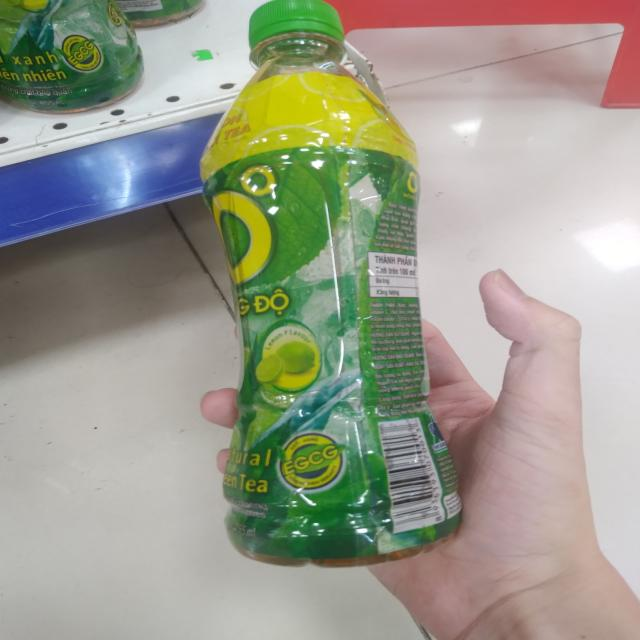tra xanh khong do: (184, 0, 488, 566)
